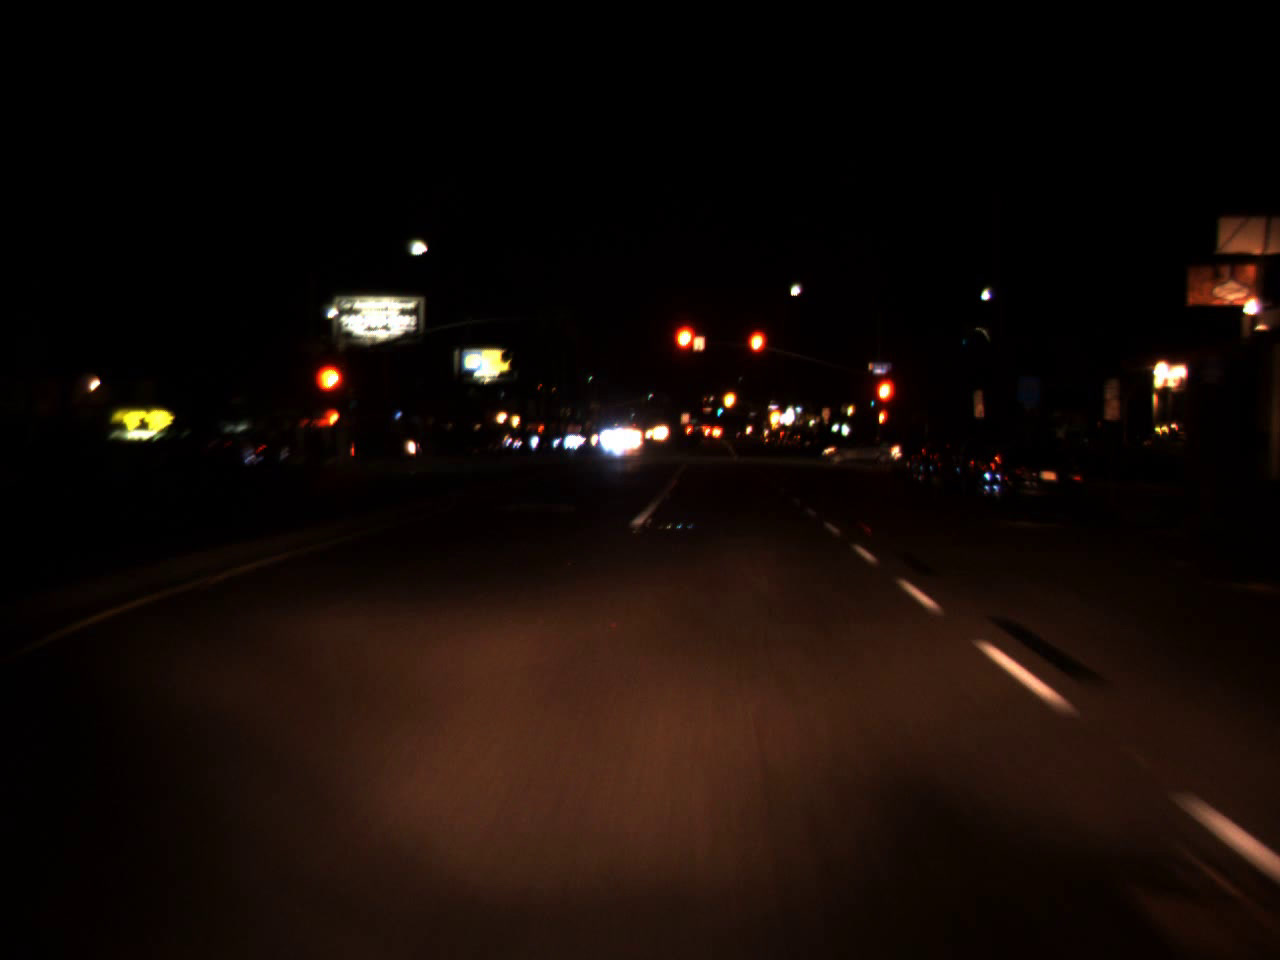go: (715, 401, 722, 416)
stop: (312, 360, 348, 424), (671, 321, 701, 377), (745, 327, 769, 381), (874, 379, 893, 422)
warning: (721, 383, 739, 415), (767, 400, 782, 430)
